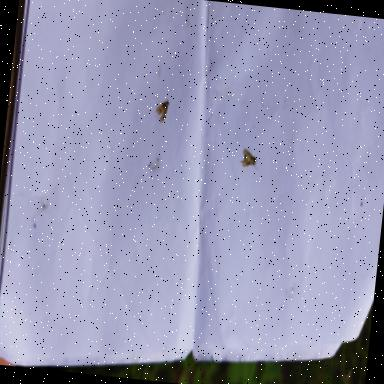pbw: (240, 148, 260, 170), (156, 98, 170, 122)
